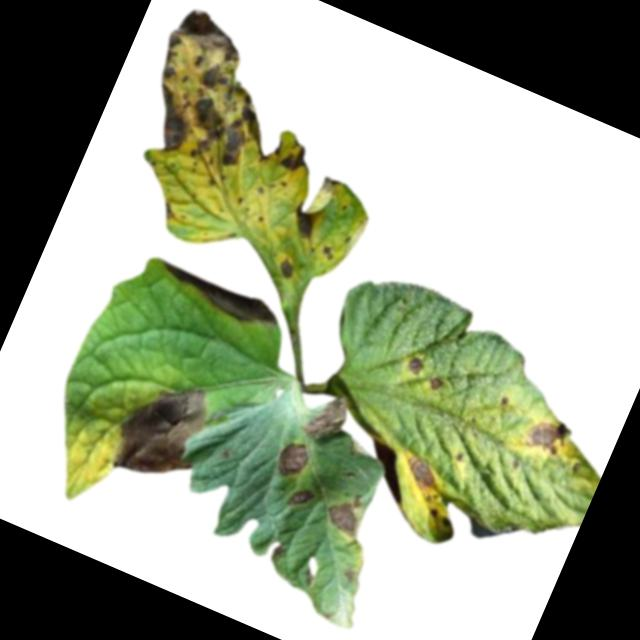Early_blight: (123, 1, 309, 194), (103, 366, 222, 496), (152, 253, 286, 336), (300, 389, 353, 448), (519, 412, 572, 464), (323, 488, 371, 538), (398, 450, 443, 494), (272, 437, 313, 483), (285, 200, 326, 244), (278, 139, 314, 176), (285, 483, 314, 514), (274, 256, 298, 281), (404, 358, 426, 379), (427, 376, 447, 396), (319, 243, 339, 262)
